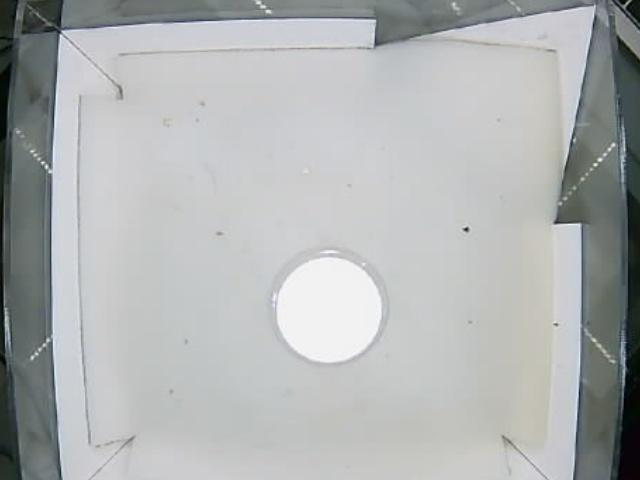Bottle: (270, 246, 391, 365)
